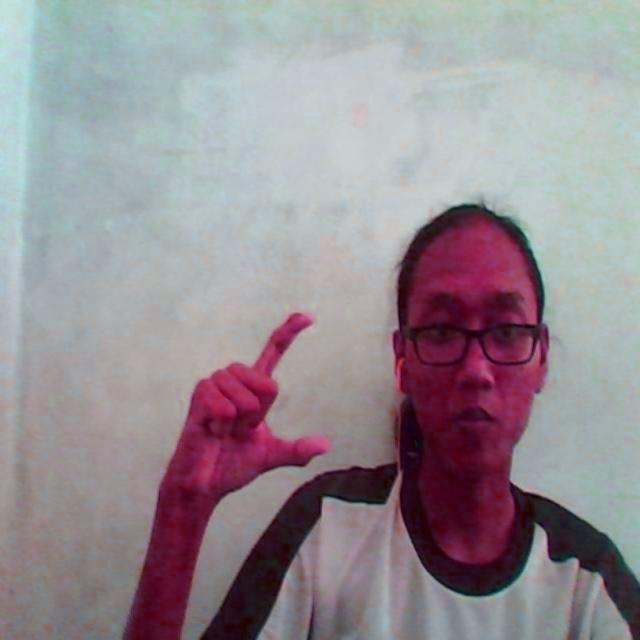C: (215, 299, 348, 478)
